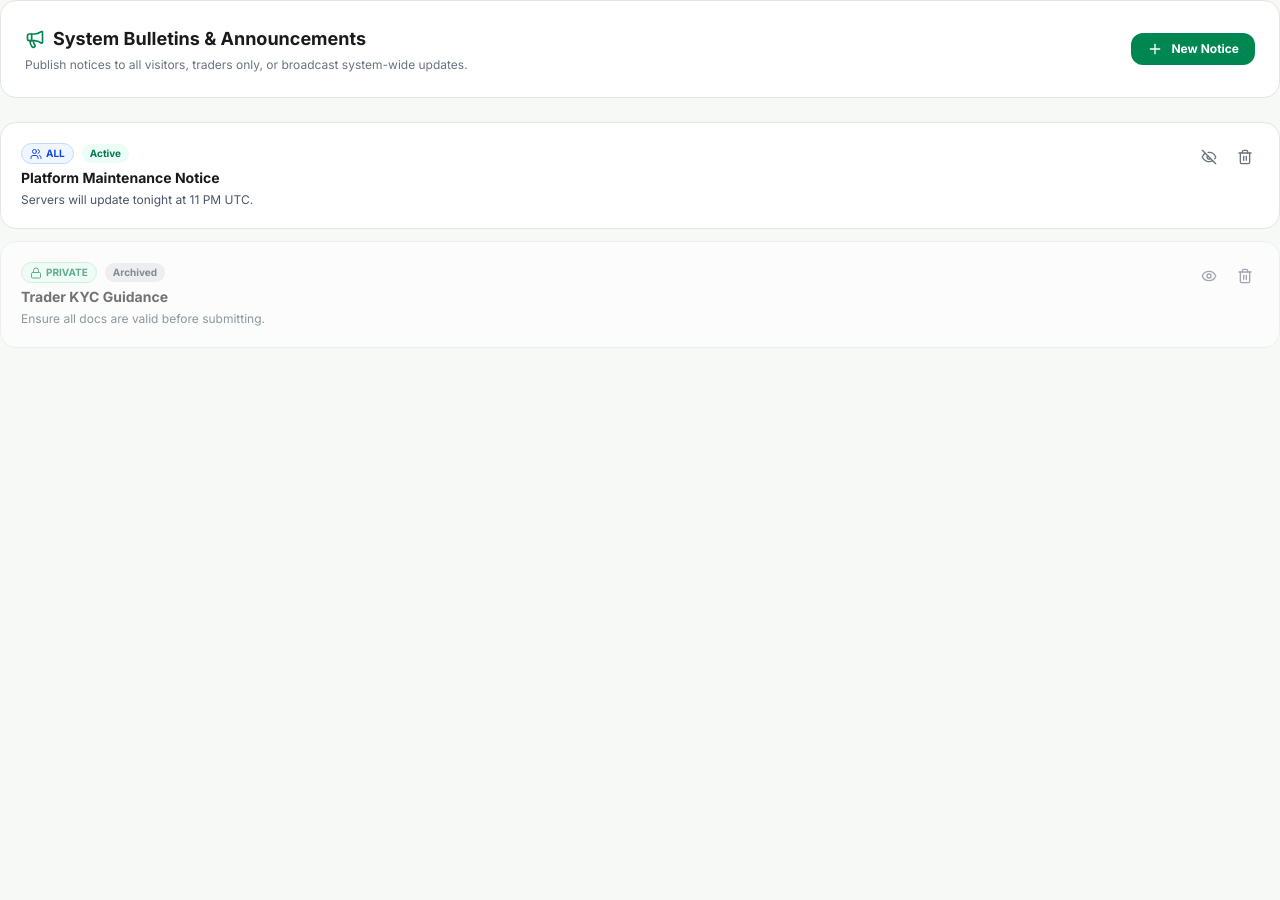
Test case: AnnouncementsTab › toggles compose form visibility when New Notice button is clicked
Click the button "New Notice" at [1193, 49], box [1132,33,1255,65]
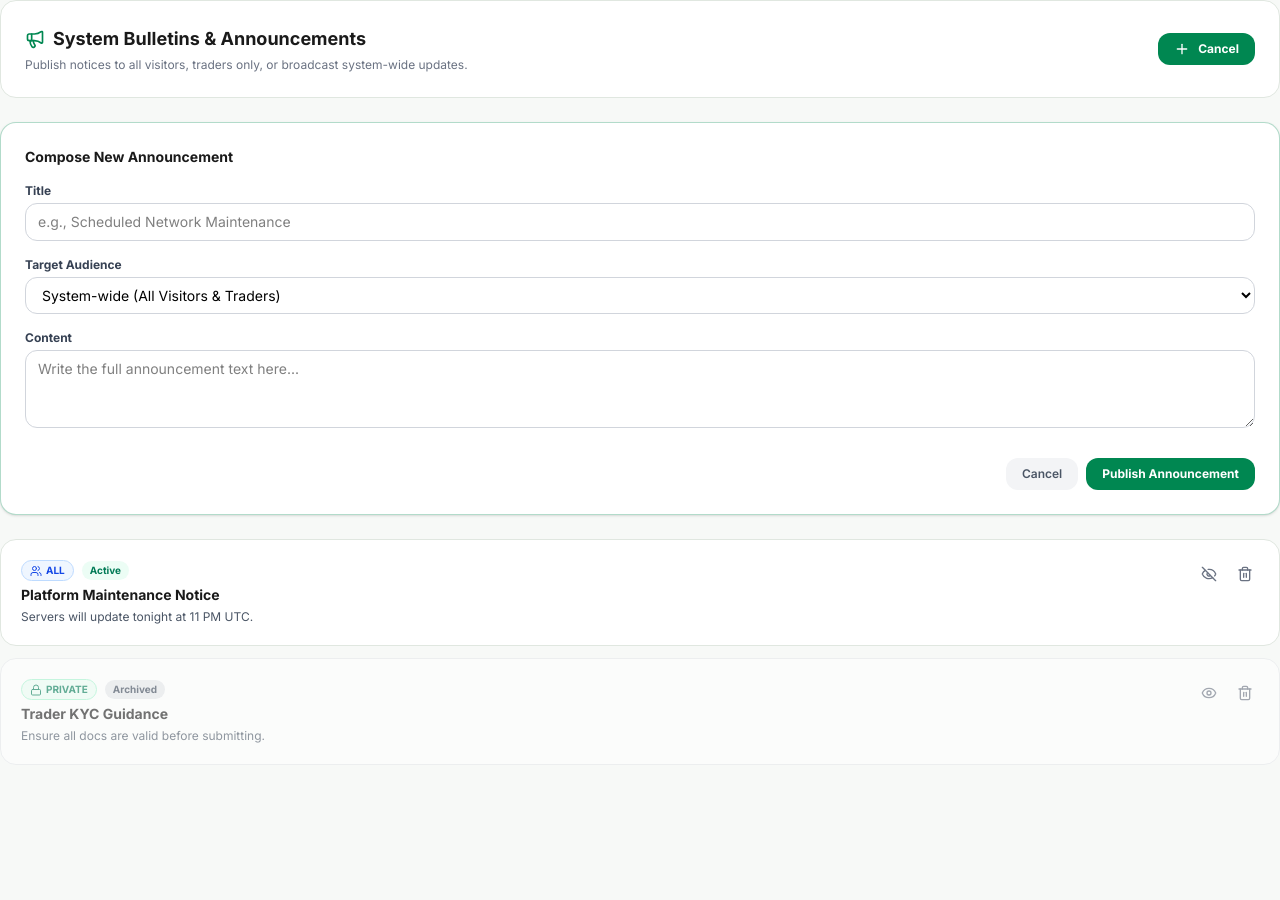
Expected: the heading "Compose New Announcement" is shown, [25,148,233,165]
Expected: the field with placeholder "e.g., Scheduled Network Maintenance" is shown, [25,203,1255,241]
